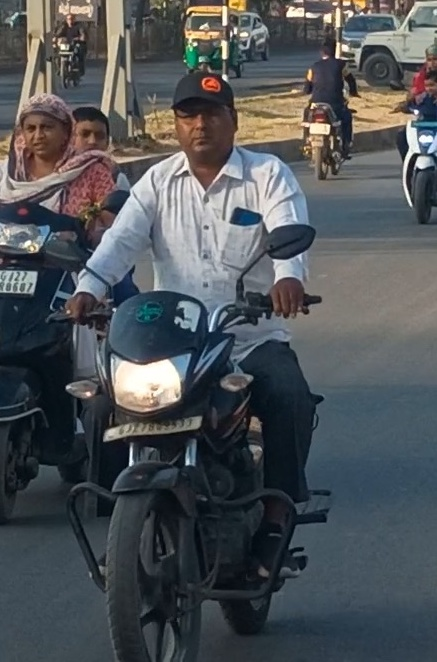BikeWithRider: (36, 63, 339, 661), (0, 86, 150, 531), (293, 33, 364, 184), (385, 44, 437, 229), (45, 9, 93, 93)
NoHelmet: (160, 64, 247, 169), (8, 88, 81, 167), (62, 101, 119, 160)
